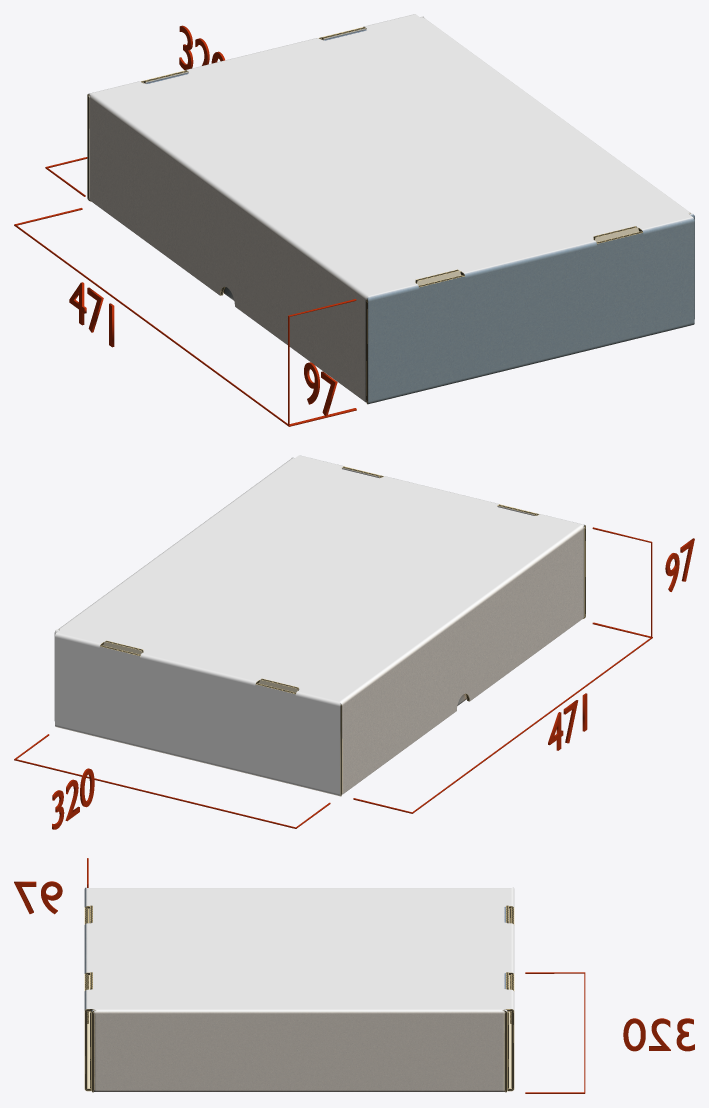
The picture shows the model from 3 angles, top to bottom: view 1: azimuth 30°, elevation 25°; view 2: azimuth 150°, elevation 25°; view 3: azimuth 270°, elevation 25°; orthographic projection. The views are drawn at different scales.
Parts seen in each view (by area): view 1: _1G0004_ARD-node.001, Plano, Texto, Texto.002, Texto.001; view 2: _1G0004_ARD-node.001, Texto.001, Texto, Plano.001, Plano, Texto.002; view 3: _1G0004_ARD-node.001, Texto.001, Texto.002, Plano.001.
Part boxes in pixels (left/top/right/bottom): _1G0004_ARD-node.001: left=87, top=14, right=694, bottom=404; Plano: left=14, top=208, right=356, bottom=426; Texto: left=69, top=282, right=114, bottom=347; Texto.002: left=304, top=362, right=337, bottom=416; Texto.001: left=179, top=25, right=224, bottom=70; _1G0004_ARD-node.001: left=54, top=455, right=585, bottom=796; Texto.001: left=52, top=768, right=94, bottom=829; Texto: left=548, top=693, right=587, bottom=750; Plano.001: left=14, top=734, right=330, bottom=828; Plano: left=353, top=623, right=652, bottom=813; Texto.002: left=665, top=538, right=694, bottom=591; _1G0004_ARD-node.001: left=84, top=887, right=514, bottom=1092; Texto.001: left=623, top=1018, right=694, bottom=1051; Texto.002: left=14, top=881, right=62, bottom=914; Plano.001: left=525, top=972, right=585, bottom=1093.
Size of the model in its own units: 0.4486 by 0.1052 by 0.7514.
Materials: 4 (2 with a texture image).
